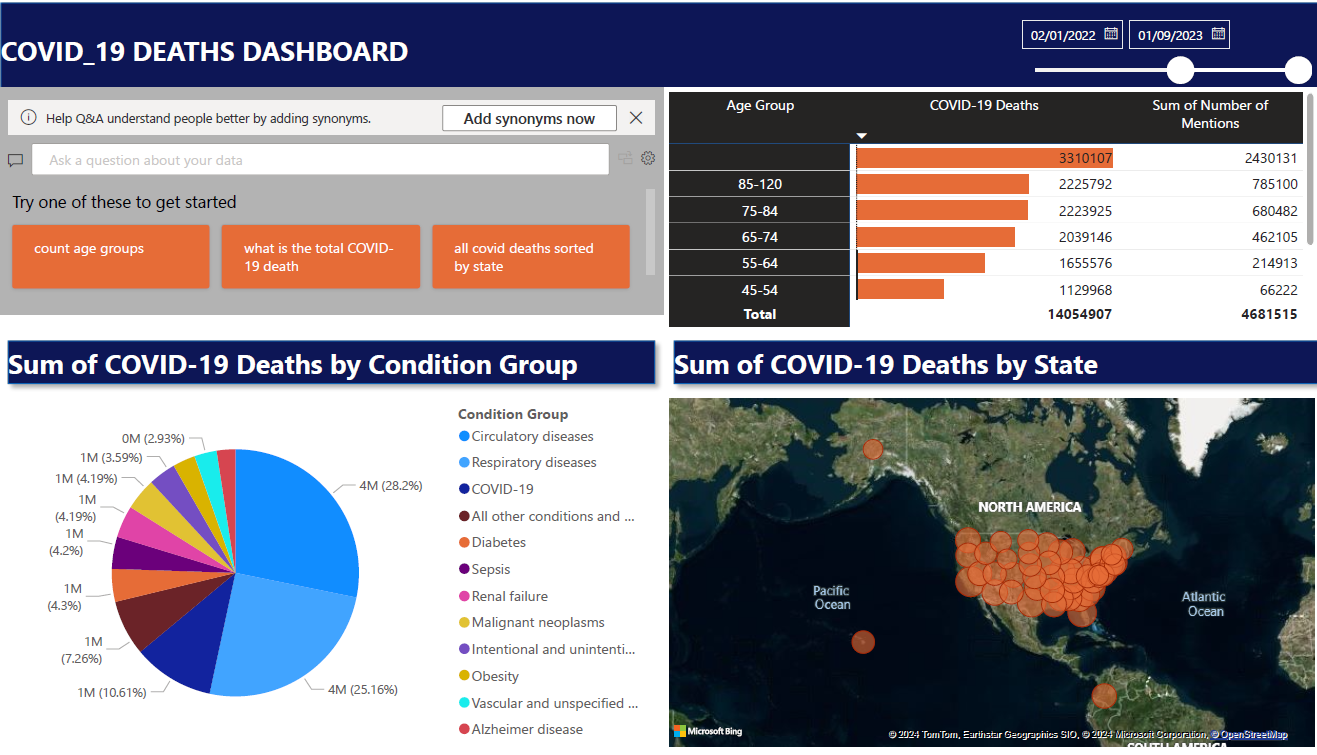

The page's visual inventory and layout, read from the dashboard file:
{"tool":"powerbi","page":{"name":"Page 1","canvas":[1280,720],"ordinal":0},"visuals":[{"type":"shape","box":[0,0,1272,105.7],"z":0},{"type":"shape","box":[6.9,321.1,632.6,59],"z":1000},{"type":"shape","box":[639.5,321.1,632.6,59],"z":2000},{"type":"qnaVisual","box":[6.9,89.2,632.6,216],"z":3000},{"type":"pieChart","fields":{"Category":["All_Covid_deaths.Condition Group"],"Y":["Sum(All_Covid_deaths.COVID-19 Deaths)"]},"box":[16.5,380.1,613.4,340.3],"z":4000},{"type":"map","fields":{"Category":["All_Covid_deaths.State"],"Size":["Sum(All_Covid_deaths.COVID-19 Deaths)"]},"box":[639.5,380.1,623,340.3],"z":5000},{"type":"pivotTable","fields":{"Rows":["All_Covid_deaths.Age Group"],"Values":["Sum(All_Covid_deaths.COVID-19 Deaths)","Sum(All_Covid_deaths.Number of Mentions)"]},"box":[639.5,89.2,623,231.9],"z":6000},{"type":"slicer","fields":{"Values":["All_Covid_deaths.Start Date"]},"box":[964.7,15.1,297.8,90.6],"z":7000}]}

Visuals, with their boxes in screenshot pixels (x1, y1, x2, y2):
shape: {"left": 21, "top": 0, "right": 1311, "bottom": 104}
shape: {"left": 28, "top": 322, "right": 669, "bottom": 382}
shape: {"left": 669, "top": 322, "right": 1311, "bottom": 382}
qnaVisual: {"left": 28, "top": 87, "right": 669, "bottom": 306}
pieChart - All_Covid_deaths.Condition Group x Sum(All_Covid_deaths.COVID-19 Deaths): {"left": 37, "top": 382, "right": 660, "bottom": 728}
map - All_Covid_deaths.State x Sum(All_Covid_deaths.COVID-19 Deaths): {"left": 669, "top": 382, "right": 1302, "bottom": 728}
pivotTable - All_Covid_deaths.Age Group x Sum(All_Covid_deaths.COVID-19 Deaths): {"left": 669, "top": 87, "right": 1302, "bottom": 322}
slicer - All_Covid_deaths.Start Date: {"left": 999, "top": 12, "right": 1302, "bottom": 104}
